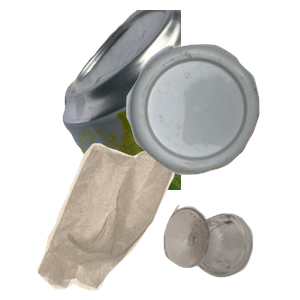glass: (161, 202, 300, 300)
metal: (60, 10, 300, 190)
plastic: (124, 42, 300, 210)
trash: (35, 140, 203, 300)
